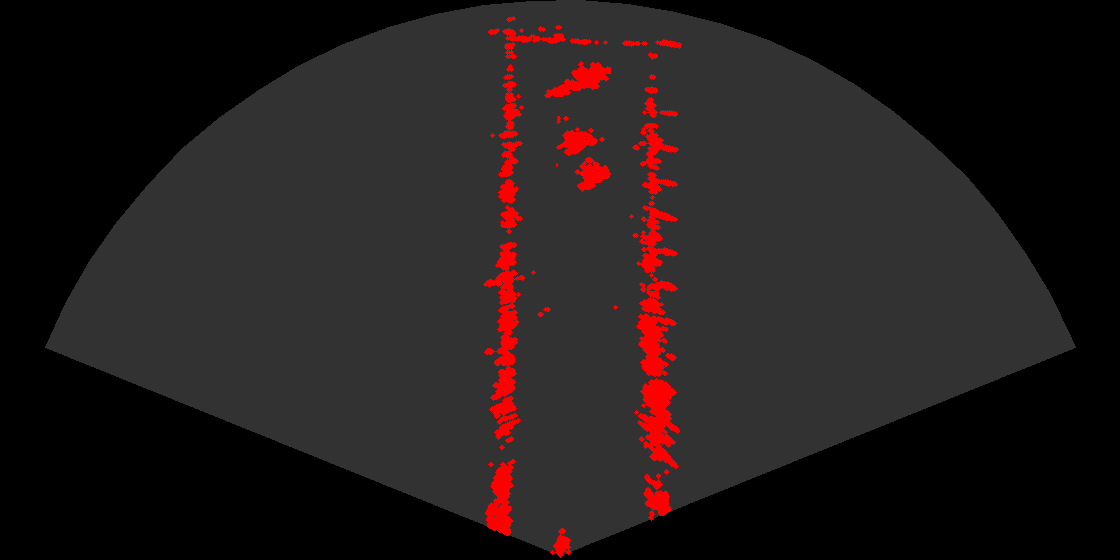cage: (556, 116, 619, 200)
frogman: (543, 55, 611, 102)
